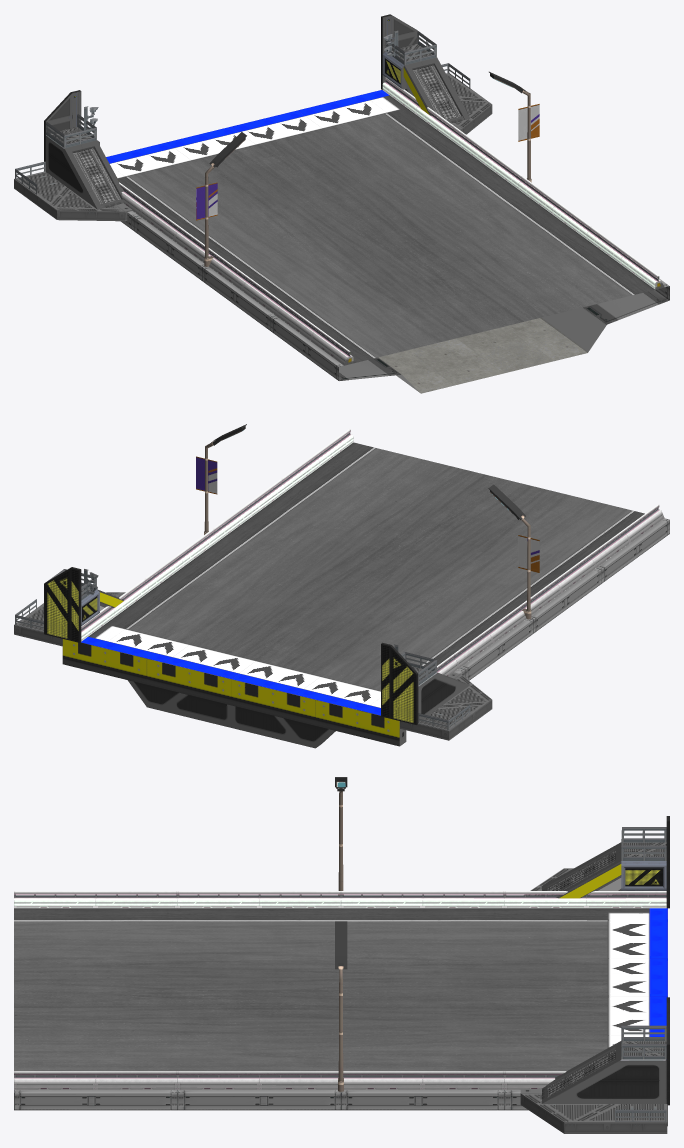
Rendered from T1 - Landing.fbx.
The picture shows the model from 3 angles, top to bottom: view 1: azimuth 30°, elevation 25°; view 2: azimuth 150°, elevation 25°; view 3: azimuth 270°, elevation 25°; orthographic projection. The views are drawn at different scales.
Visible parts, largest first — view 1: standard_road, standard_bridge, gate, flt_lines_landing, barrier_elevated2, wall_straight_elevated, pro_streetlight_banner_1, pro_streetlight_banner; view 2: standard_road, frontplate_landing, gate, flt_lines_landing, barrier_elevated2, wall_straight_elevated, standard_bridge, pro_streetlight_banner_1, pro_streetlight_banner; view 3: standard_road, gate, barrier_elevated2, standard_bridge, wall_straight_elevated, flt_lines_landing, pro_streetlight_banner, pro_streetlight_banner_1.
Boxes of the visible parts, left/top/right/bottom form: standard_road: left=118, top=95, right=654, bottom=363; standard_bridge: left=121, top=211, right=669, bottom=393; gate: left=14, top=14, right=492, bottom=221; flt_lines_landing: left=106, top=90, right=400, bottom=178; barrier_elevated2: left=119, top=77, right=664, bottom=365; wall_straight_elevated: left=119, top=82, right=660, bottom=365; pro_streetlight_banner_1: left=196, top=132, right=246, bottom=266; pro_streetlight_banner: left=489, top=71, right=539, bottom=182; standard_road: left=88, top=442, right=644, bottom=690; frontplate_landing: left=62, top=639, right=406, bottom=748; gate: left=14, top=567, right=492, bottom=740; flt_lines_landing: left=81, top=625, right=380, bottom=715; barrier_elevated2: left=81, top=429, right=658, bottom=671; wall_straight_elevated: left=81, top=429, right=664, bottom=675; standard_bridge: left=87, top=518, right=669, bottom=715; pro_streetlight_banner_1: left=488, top=484, right=539, bottom=619; pro_streetlight_banner: left=196, top=424, right=246, bottom=534; standard_road: left=14, top=908, right=649, bottom=1075; gate: left=520, top=816, right=669, bottom=1133; barrier_elevated2: left=14, top=891, right=666, bottom=1090; standard_bridge: left=14, top=1090, right=528, bottom=1110; wall_straight_elevated: left=14, top=891, right=666, bottom=1090; flt_lines_landing: left=607, top=908, right=667, bottom=1047; pro_streetlight_banner: left=335, top=921, right=347, bottom=1091; pro_streetlight_banner_1: left=335, top=777, right=347, bottom=895.
Size of the model in its own units: 5885 by 2221 by 6419.
